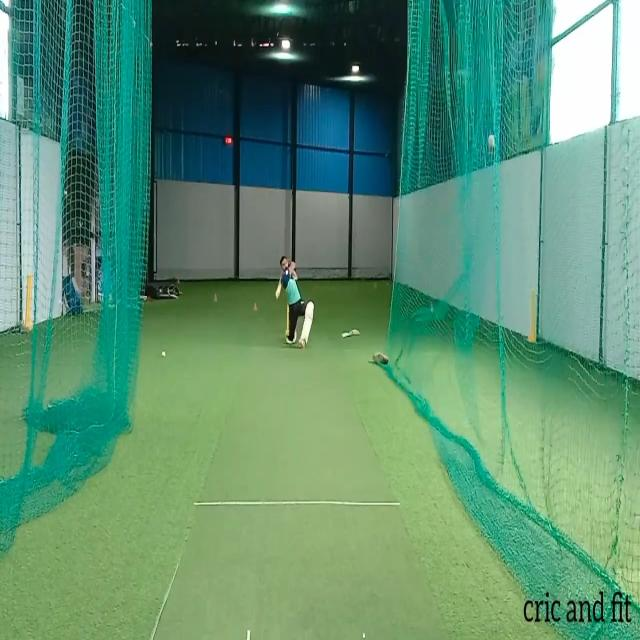batsman: (275, 254, 315, 350)
